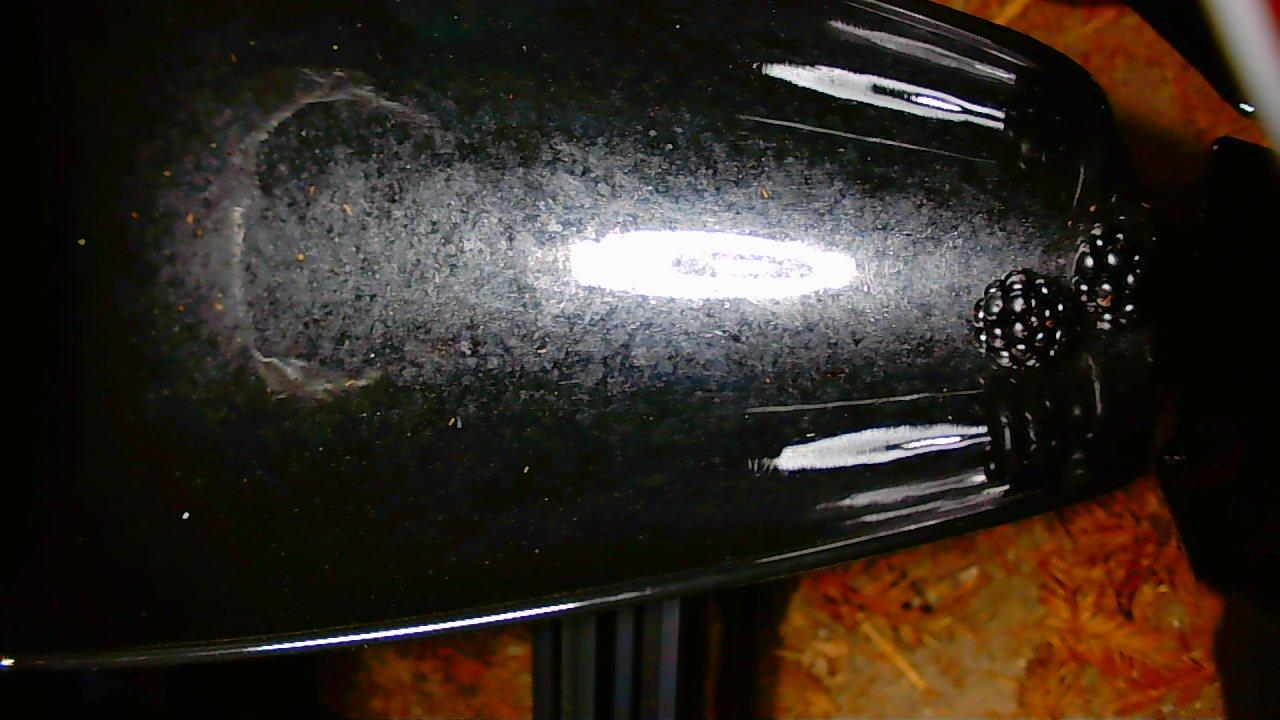berry: (1070, 210, 1155, 329), (973, 270, 1074, 366)
